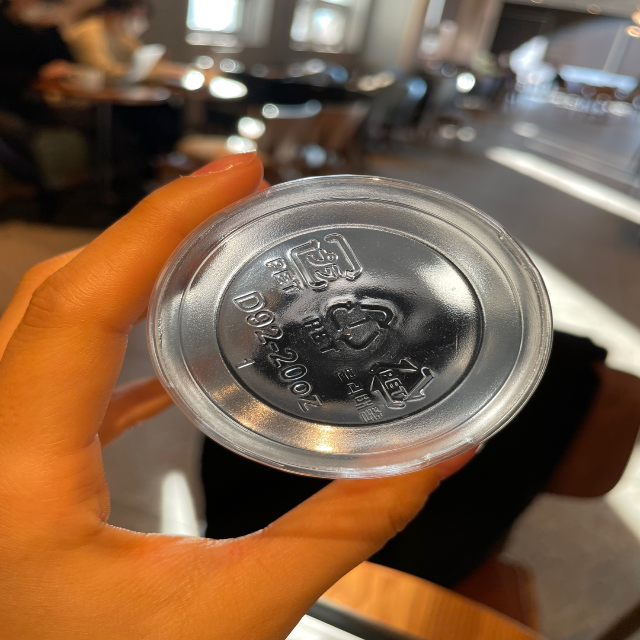pet: (267, 230, 366, 296), (330, 359, 435, 416), (303, 293, 397, 356)
